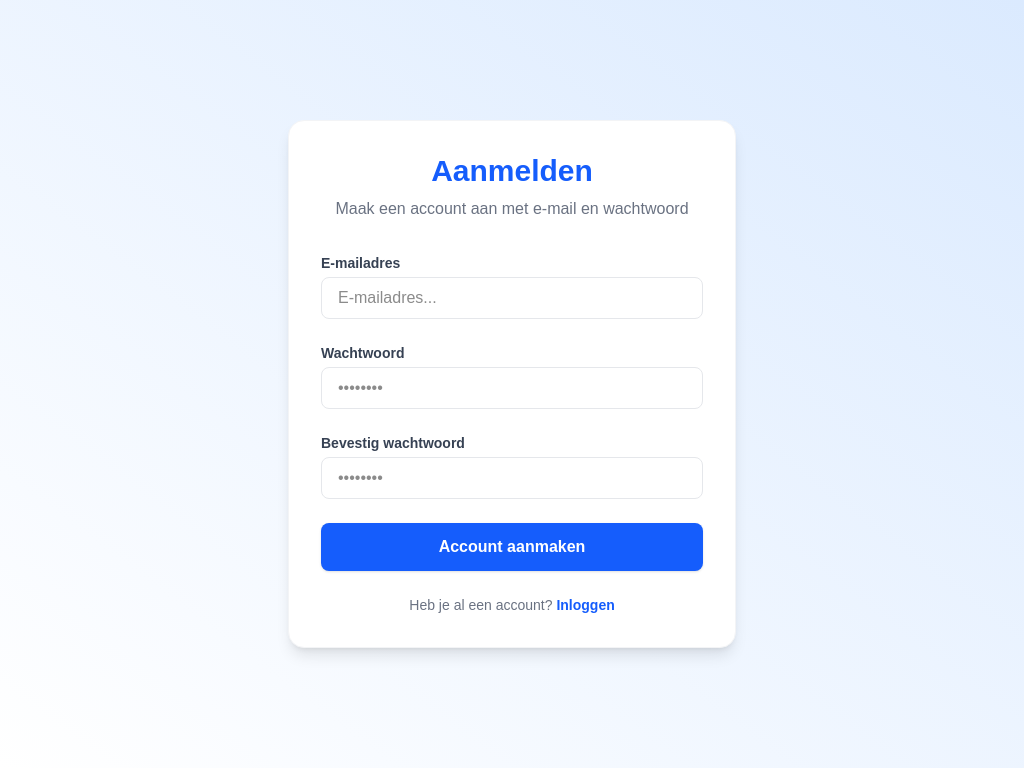
Test case: SignupPage › shows error if signUp returns no user
The width and height of the screenshot is (1024, 768).
Step 1. Type "test@example.com" into the field labelled "E-mailadres" → (512, 298), box [321, 277, 703, 319]
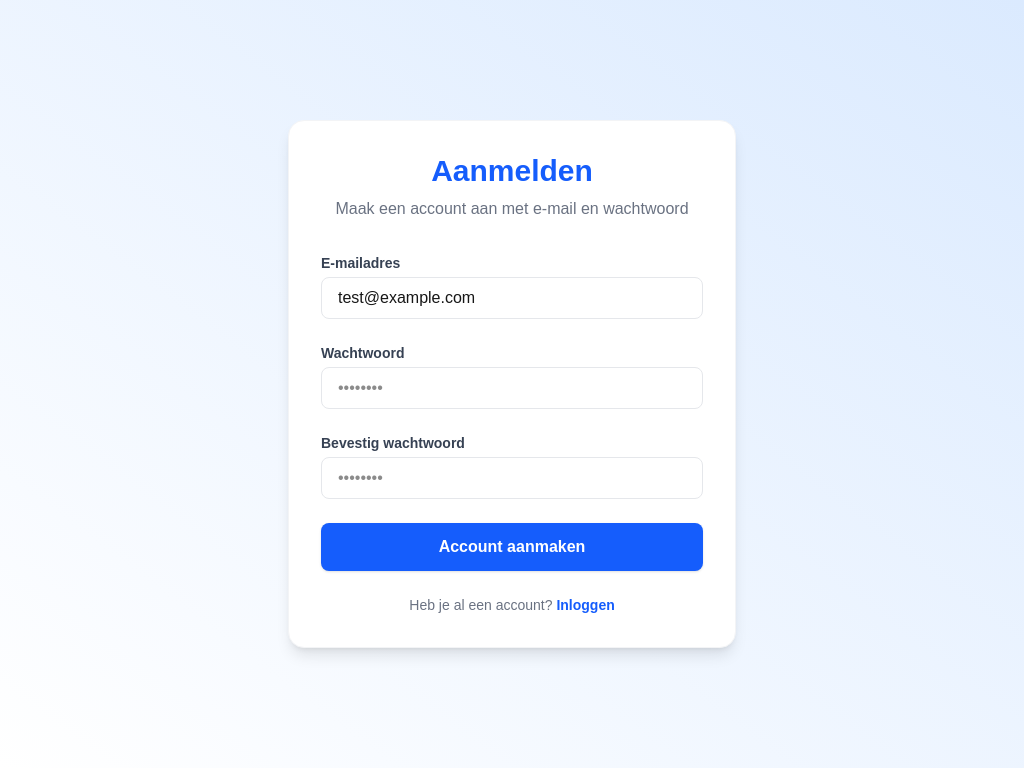
Step 2. Type "password123" into the password field labelled "Wachtwoord" → (512, 388), box [321, 367, 703, 409]
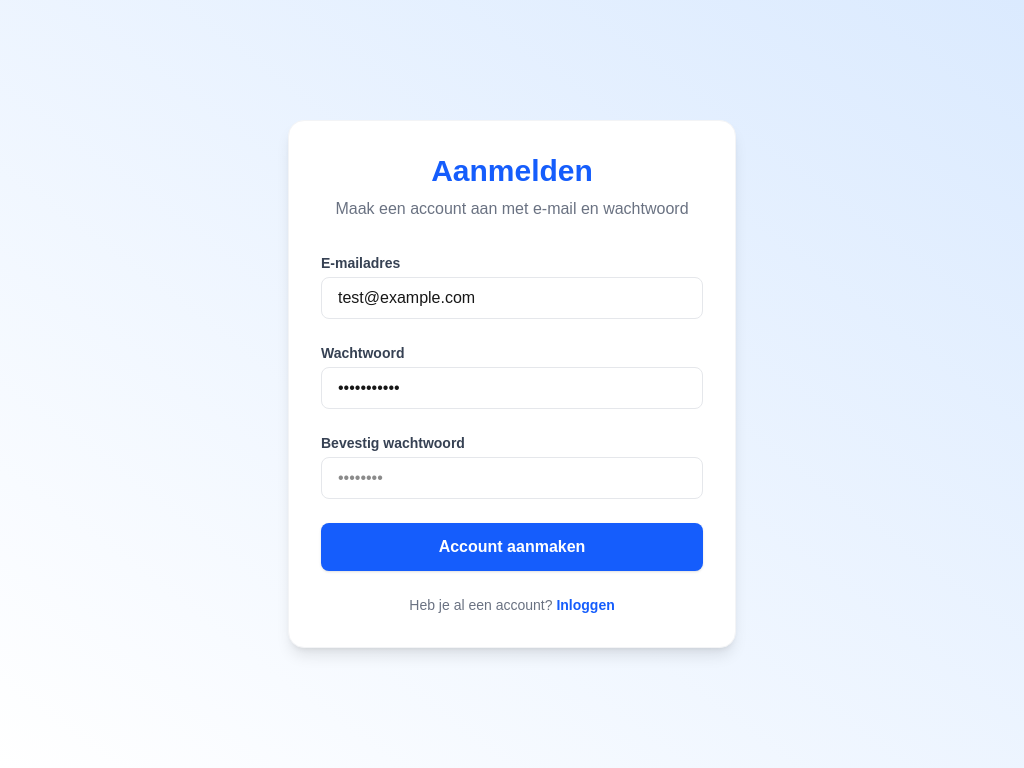
Step 3. Type "password123" into the password field labelled "Bevestig wachtwoord" → (512, 478), box [321, 457, 703, 499]
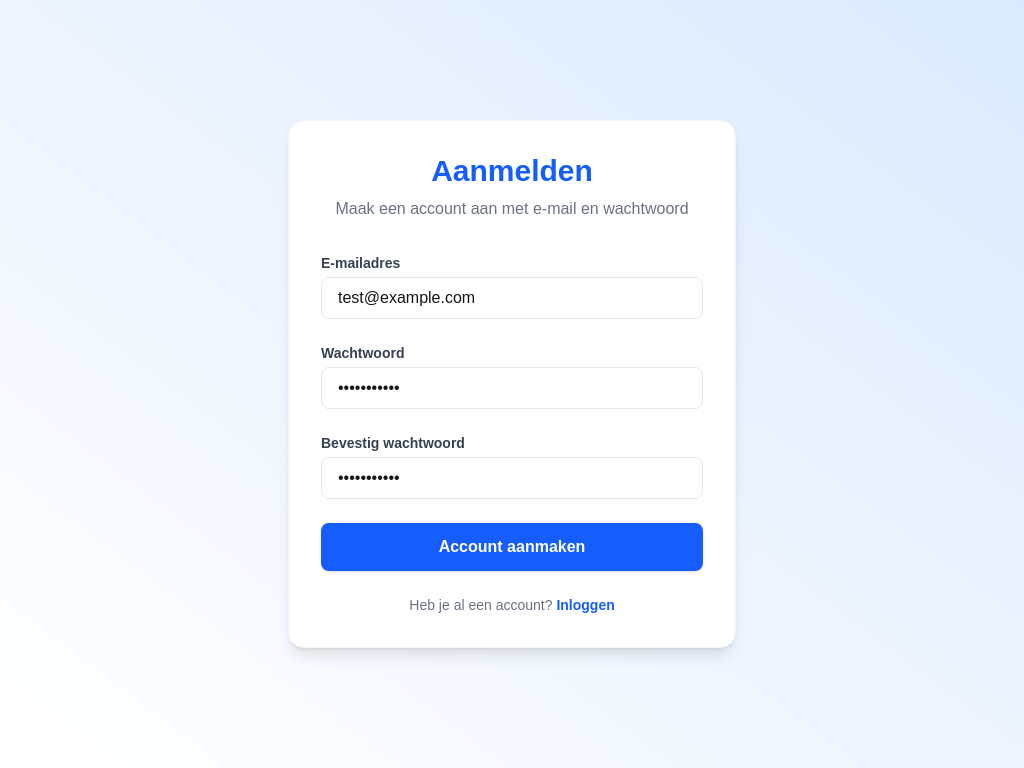
Step 4. Submit the form from the button "Account aanmaken", box [321, 523, 703, 571]
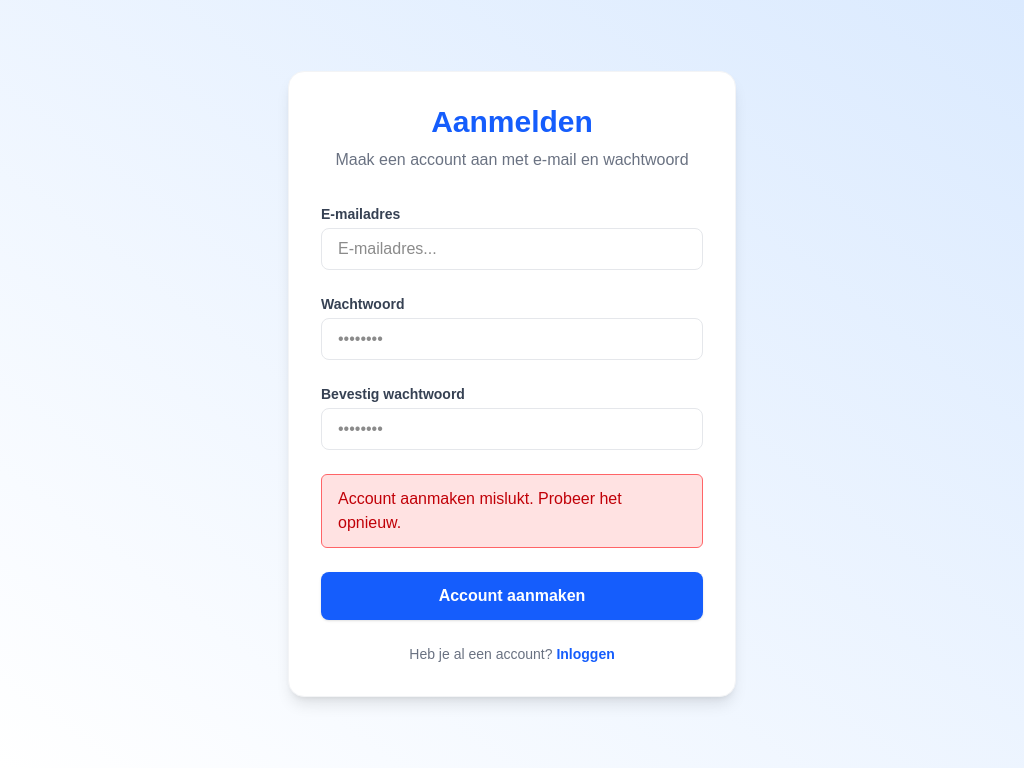
Expected: the text "Account aanmaken mislukt. Probeer het opnieuw." is shown, [321, 474, 703, 548]
